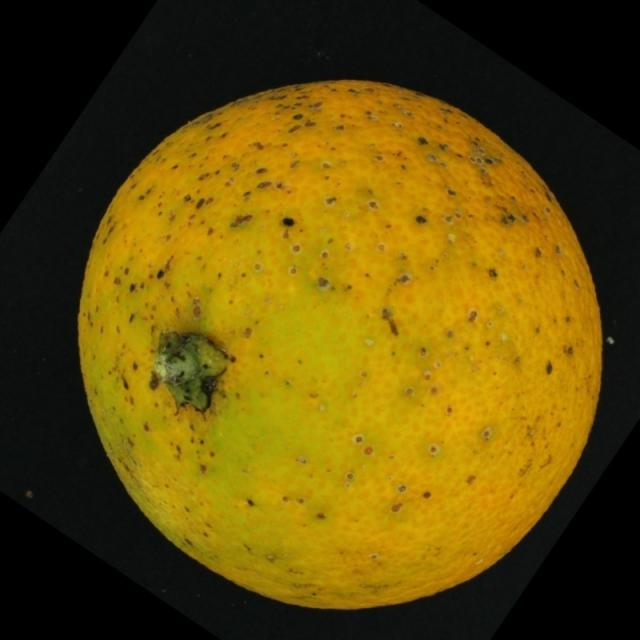grenning: (66, 66, 611, 623)
